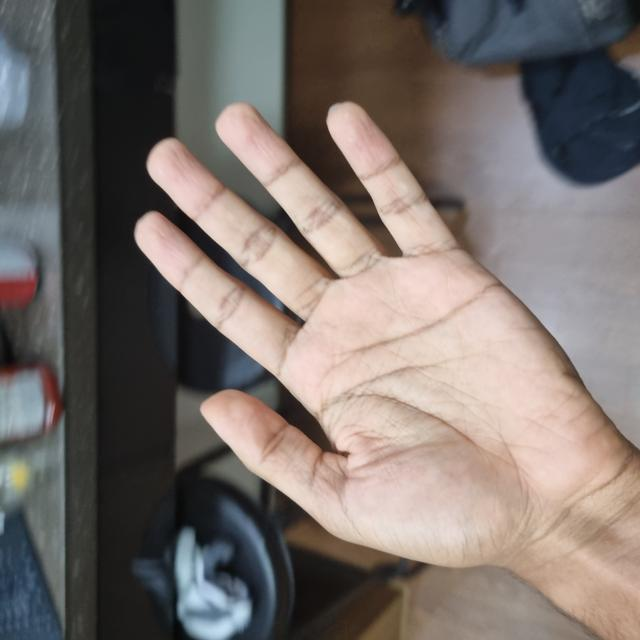Paper: (74, 133, 536, 607)
